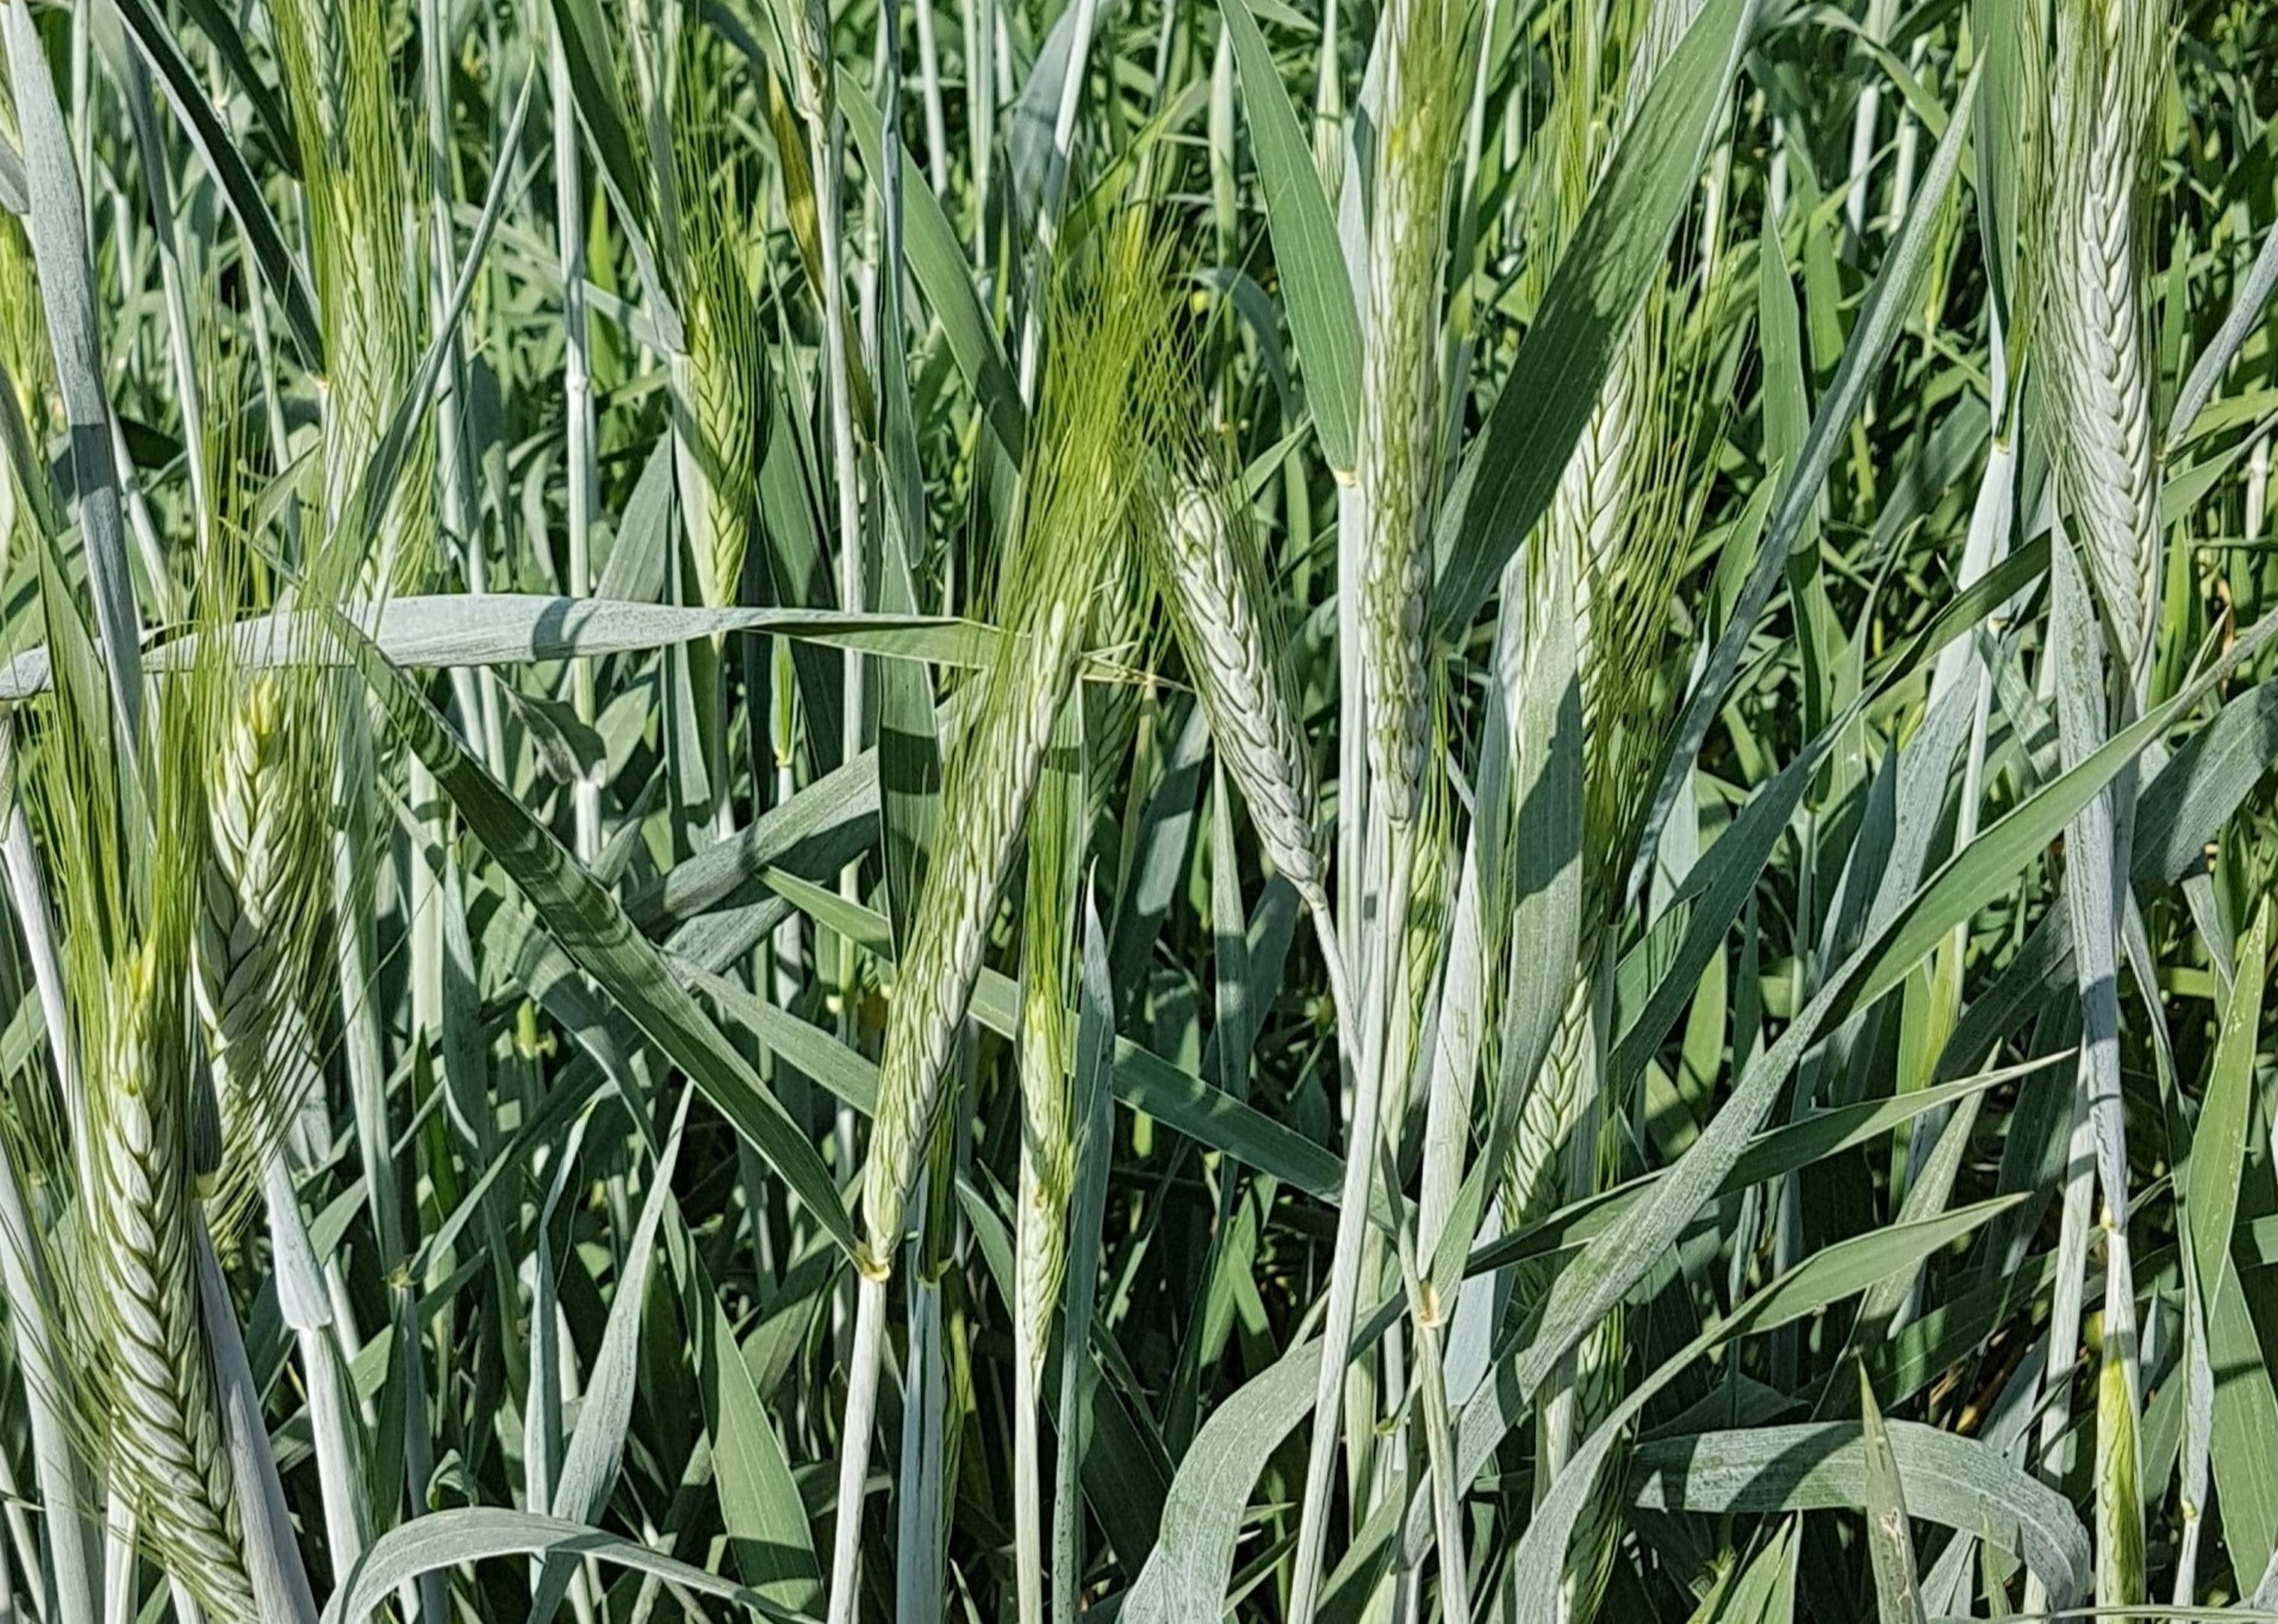Healthy Wheat: (51, 986, 265, 1613), (2013, 86, 2213, 640), (1151, 490, 1339, 916)
